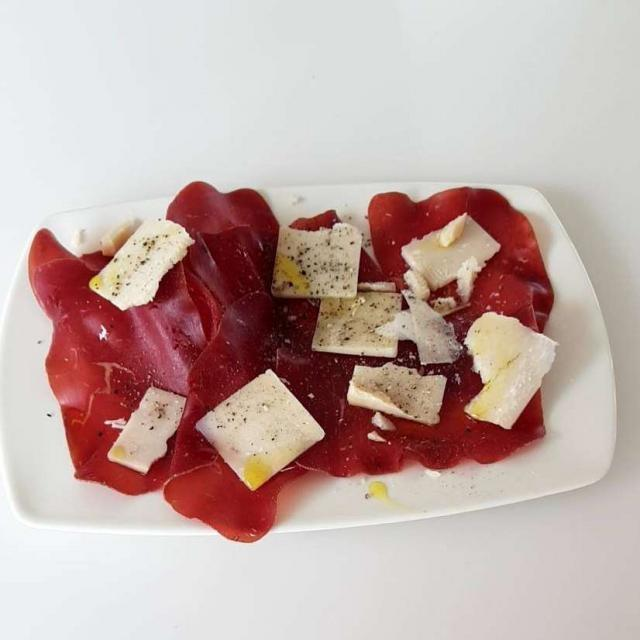cheese: (94, 213, 550, 470)
dried-meat: (50, 186, 553, 528)
